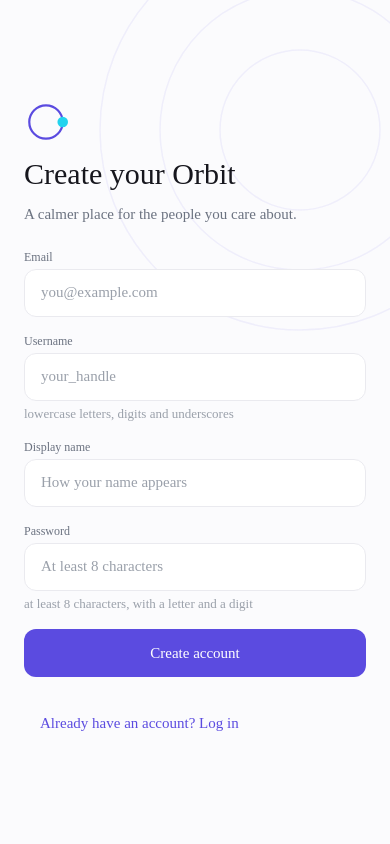
it: RegisterScreen › surfaces a 409 message on the username field
This screenshot has width=390, height=844.
Type "alice@example.com" into the field with placeholder "you@example.com".
click(195, 292); type("alice@example.com")  # box [41, 284, 349, 301]
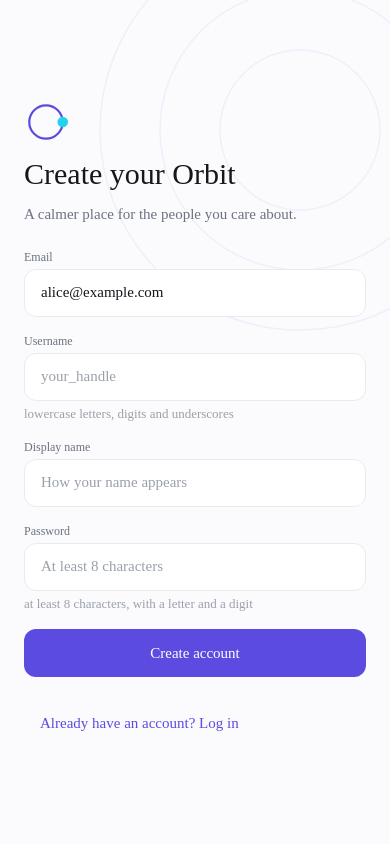
Type "alice_1" into the field with placeholder "your_handle".
click(195, 376); type("alice_1")  # box [41, 368, 349, 385]
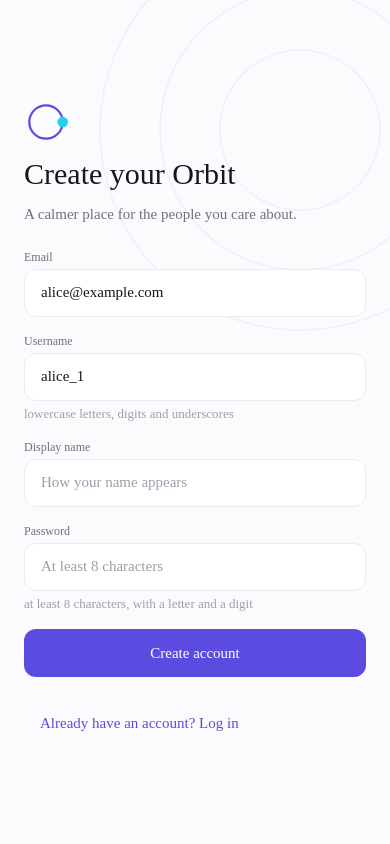
Type "Alice" into the field with placeholder "How your name appears".
click(195, 482); type("Alice")  # box [41, 474, 349, 491]
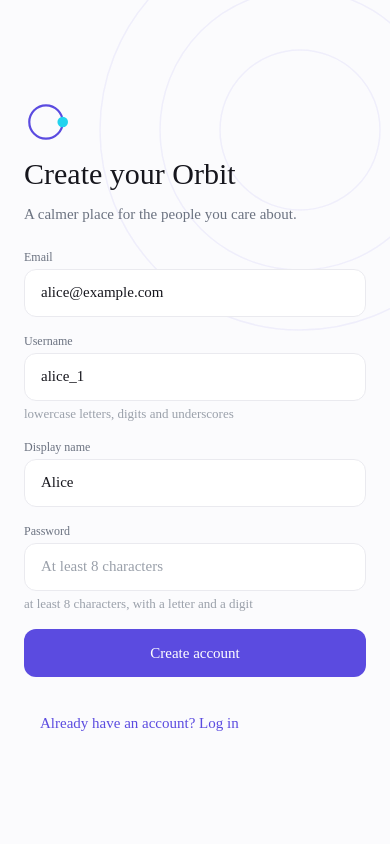
Type "abc12345" into the password field with placeholder "At least 8 characters".
click(181, 566); type("abc12345")  # box [41, 558, 321, 575]
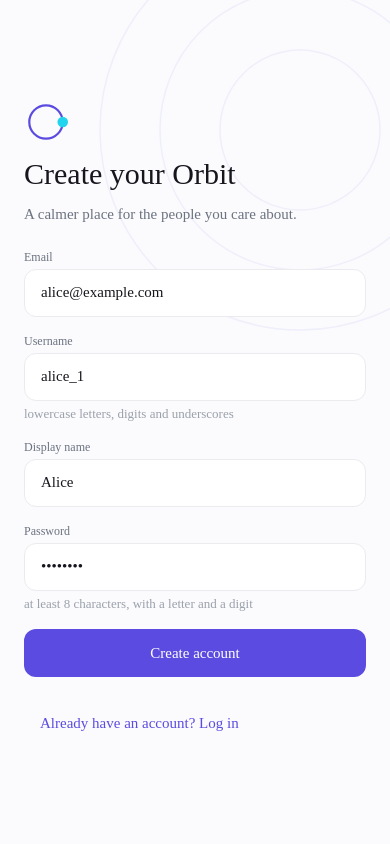
Click the button "Create account".
click(195, 652)  # box [24, 628, 366, 676]
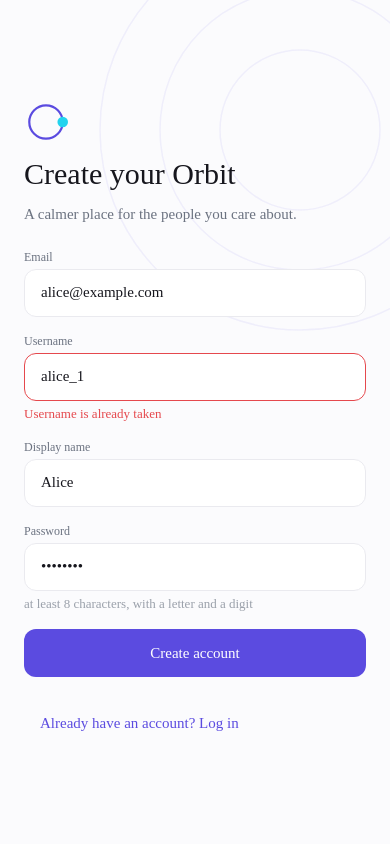
Expected: the text "Username is already taken" is shown, [24, 406, 162, 420]
